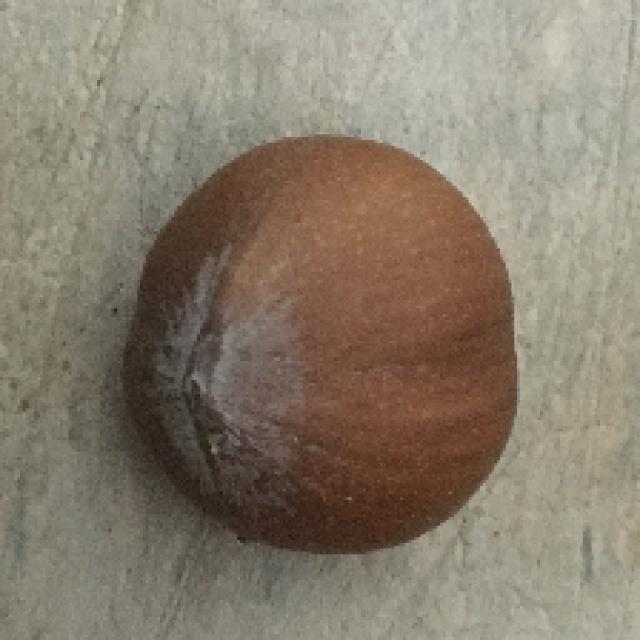qualityHazelnut: (123, 122, 528, 554)
